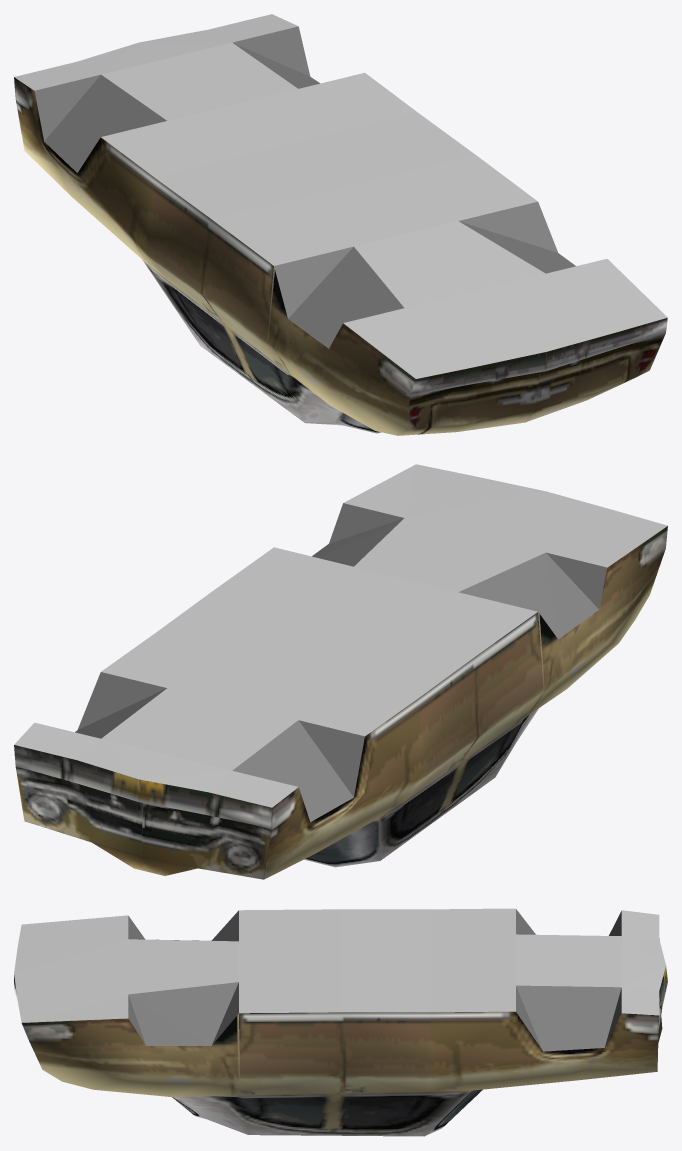
File: HAVANA_model3_clean.obj
3 renders of one model, top to bottom at view 1: azimuth 30°, elevation 25°; view 2: azimuth 150°, elevation 25°; view 3: azimuth 270°, elevation 25°, orthographic. The views are drawn at different scales.
Parts seen in each view (by area): view 1: HAVANA_model3_clean; view 2: HAVANA_model3_clean; view 3: HAVANA_model3_clean.
Part boxes in pixels (left/top/right/bottom): HAVANA_model3_clean: left=14, top=14, right=667, bottom=435; HAVANA_model3_clean: left=14, top=464, right=667, bottom=879; HAVANA_model3_clean: left=14, top=908, right=667, bottom=1136.
Bounding box in the file's own units: 270 × 171 × 692.
